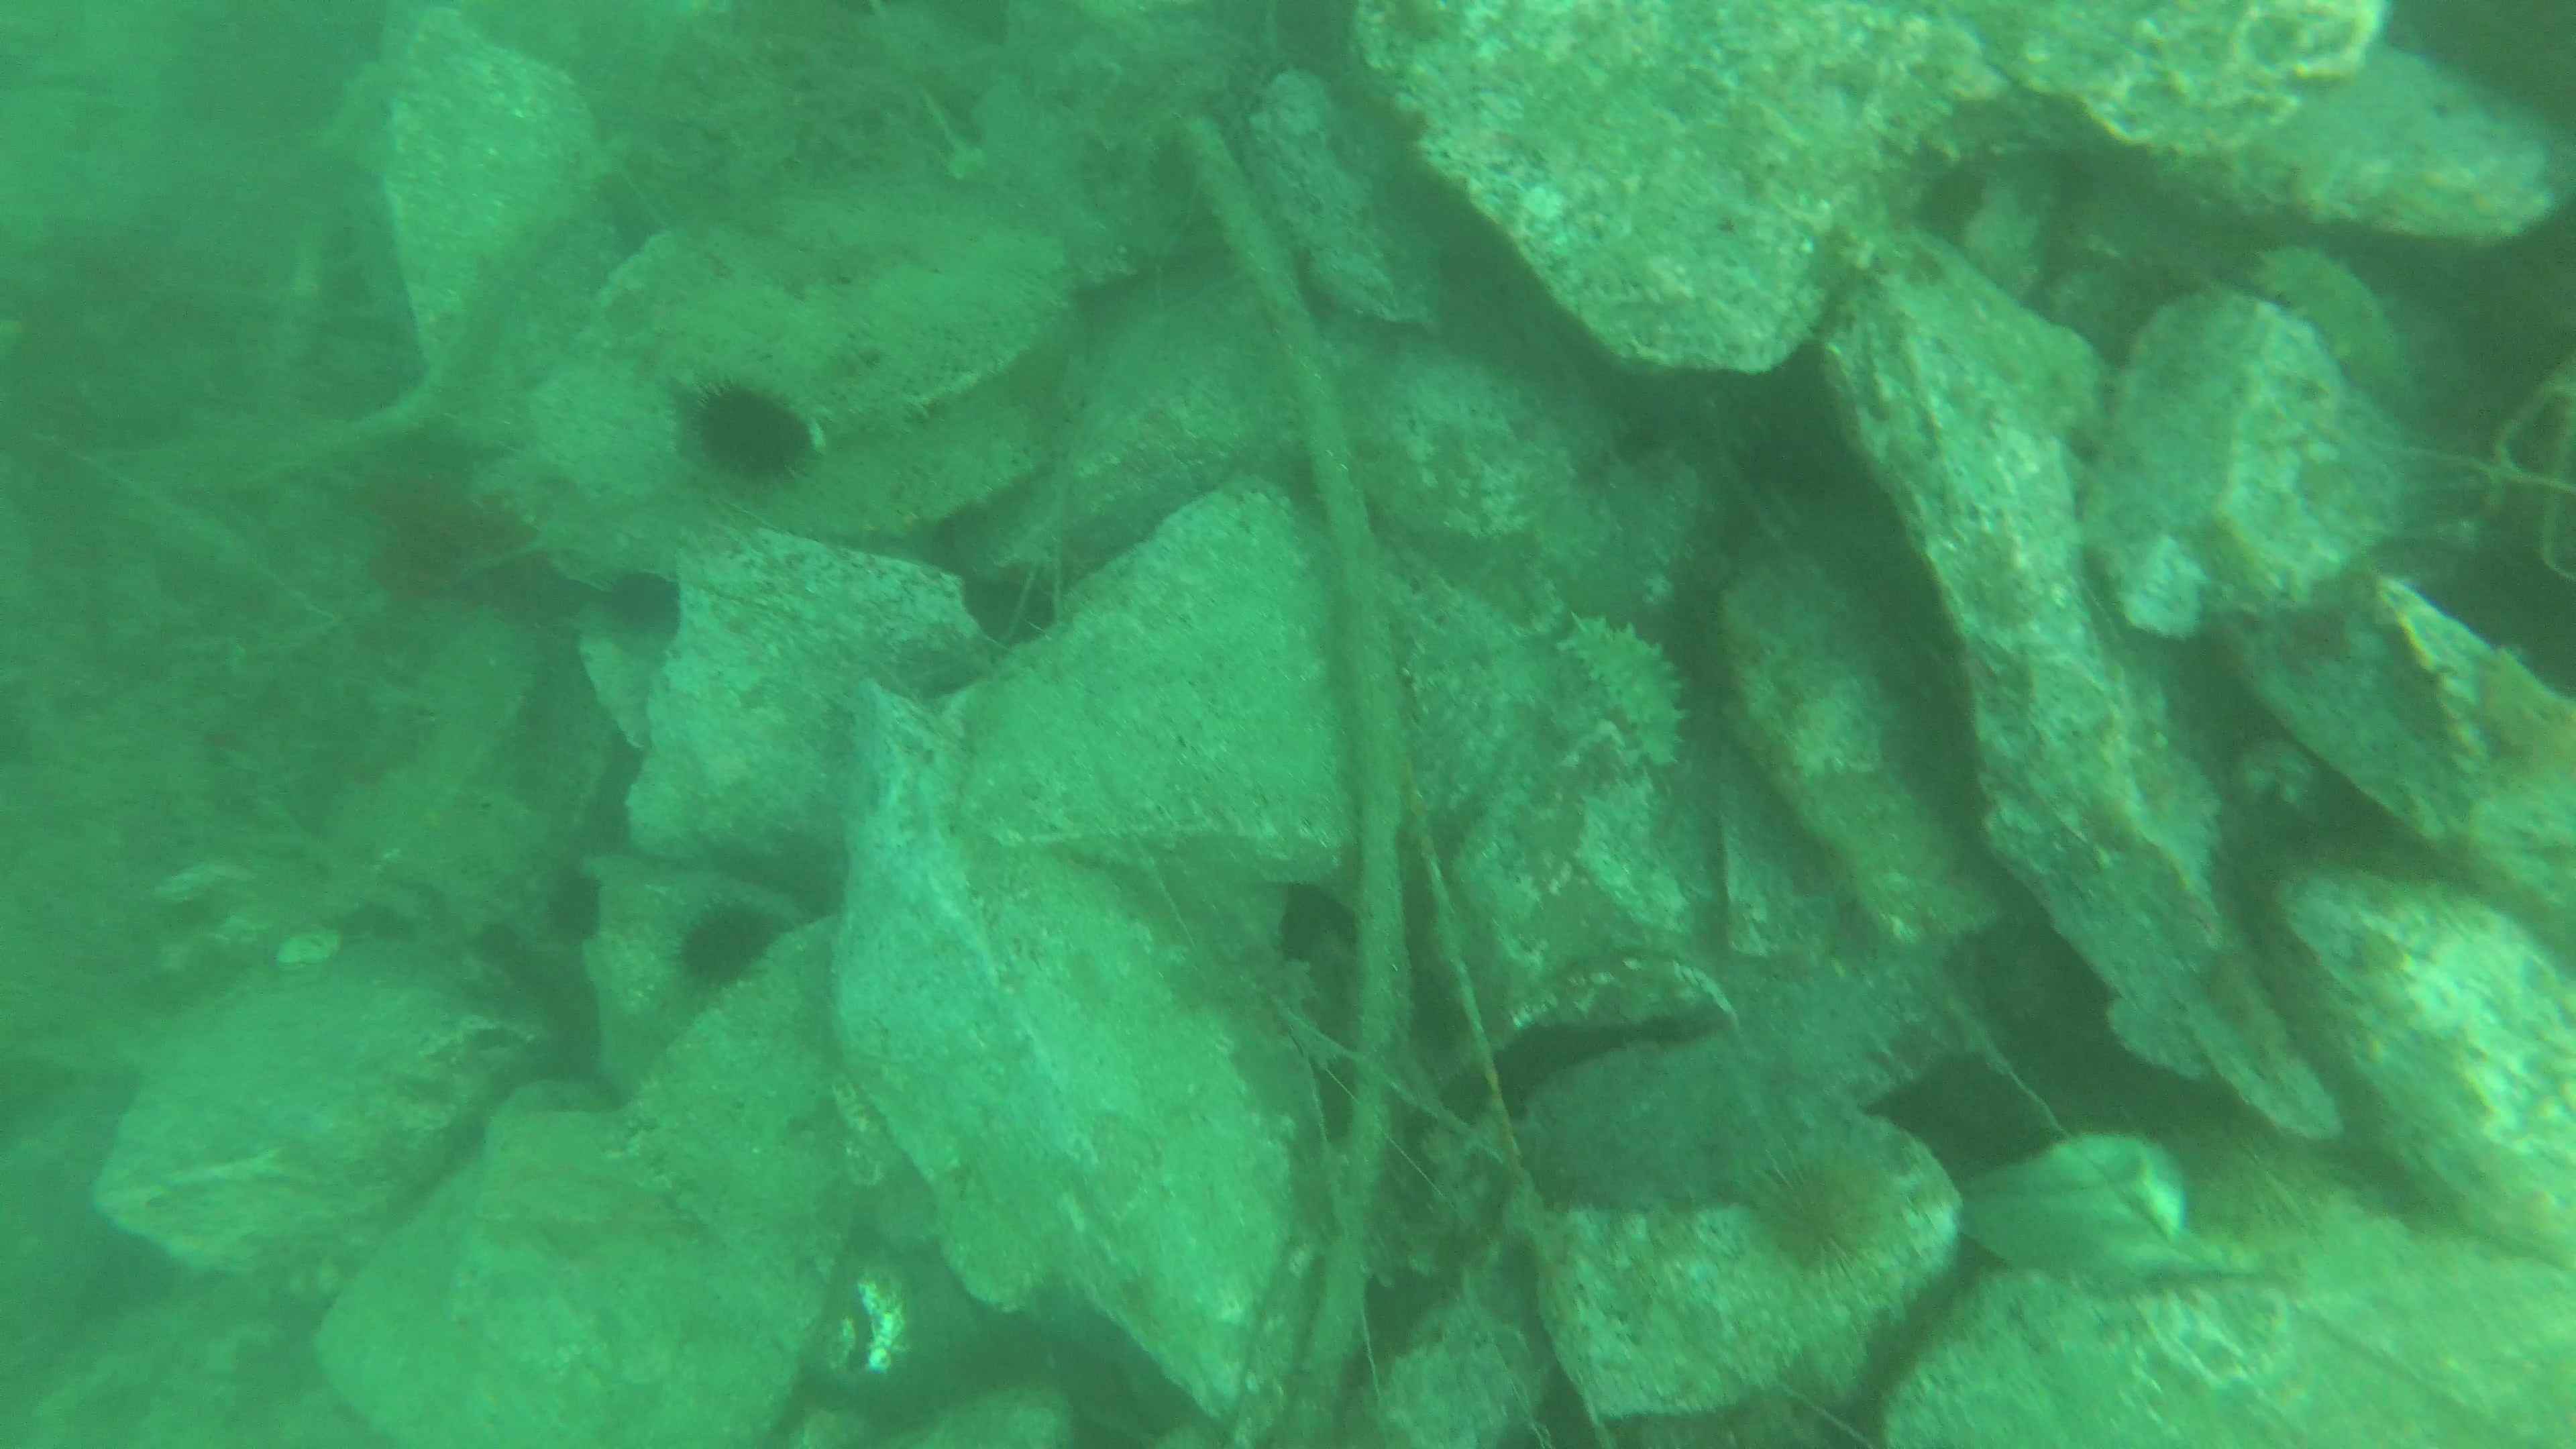echinus: (1732, 1141, 1936, 1297), (658, 386, 840, 492), (678, 899, 777, 989)
holothurian: (778, 386, 1072, 540), (2233, 230, 2427, 439), (1741, 945, 1939, 1086), (1559, 610, 1693, 777)
